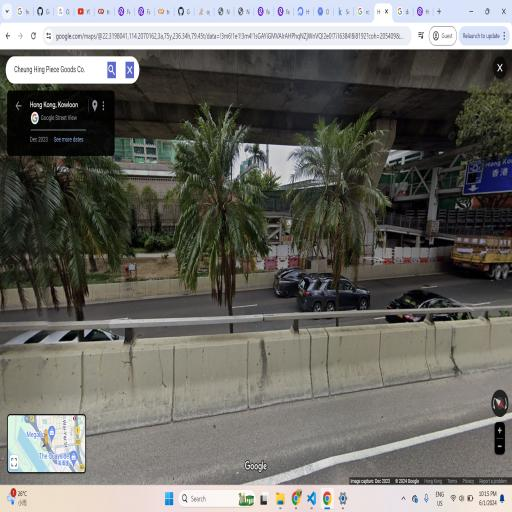Roads: (8, 268, 504, 479)
Trees: (163, 102, 275, 336), (7, 156, 137, 347), (288, 108, 382, 323)
